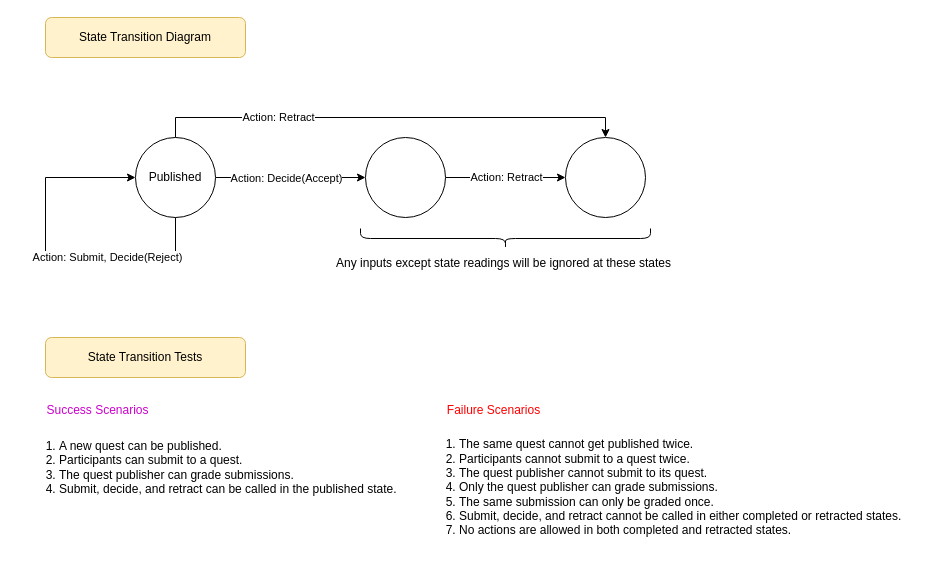
Some shapes in this 944 by 575 pixel diagram are drawn without their labels. Here are the shapes that lost their labels. From the top down, the centre of each, then its label:
point 405,177: Completed
point 605,177: Retracted
